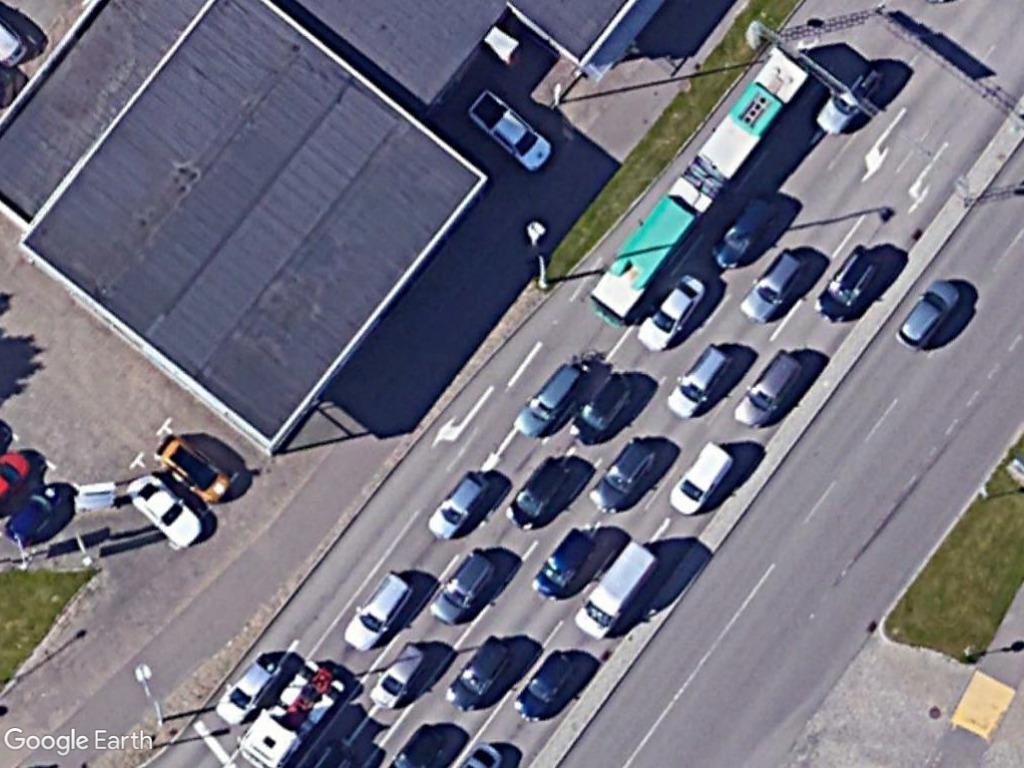bus: (584, 171, 711, 326), (687, 43, 813, 191)
car: (123, 468, 210, 554), (341, 564, 416, 653), (152, 431, 237, 509), (511, 356, 589, 441), (632, 269, 710, 353), (729, 346, 805, 432), (526, 520, 607, 600), (586, 433, 662, 518), (426, 544, 502, 628), (441, 629, 516, 714), (811, 243, 884, 327), (663, 441, 739, 520), (212, 647, 287, 726), (568, 365, 637, 448), (737, 245, 810, 323), (892, 273, 964, 352), (710, 195, 781, 275), (424, 465, 498, 541), (662, 338, 733, 417), (510, 651, 583, 727), (501, 453, 573, 529), (365, 637, 435, 711)
other: (463, 82, 556, 177)
van: (571, 537, 663, 642)
